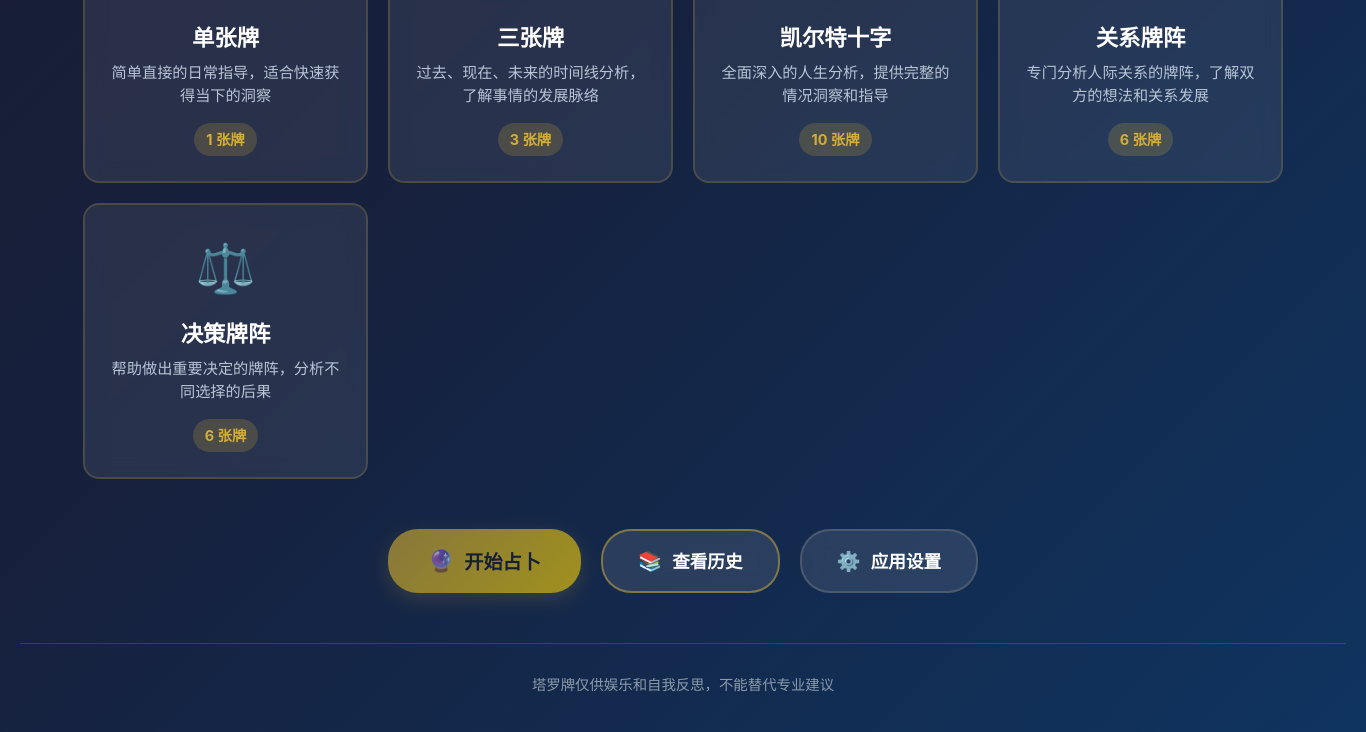
Test case: 塔罗分析应用 - 集成测试 › 设置功能 › 应该能够访问设置页面
This screenshot has width=1366, height=732.
(page scrolled)
Click the button "⚙️ 应用设置" at (889, 561), box x1=800 y1=529 x2=978 y2=593
(page scrolled)
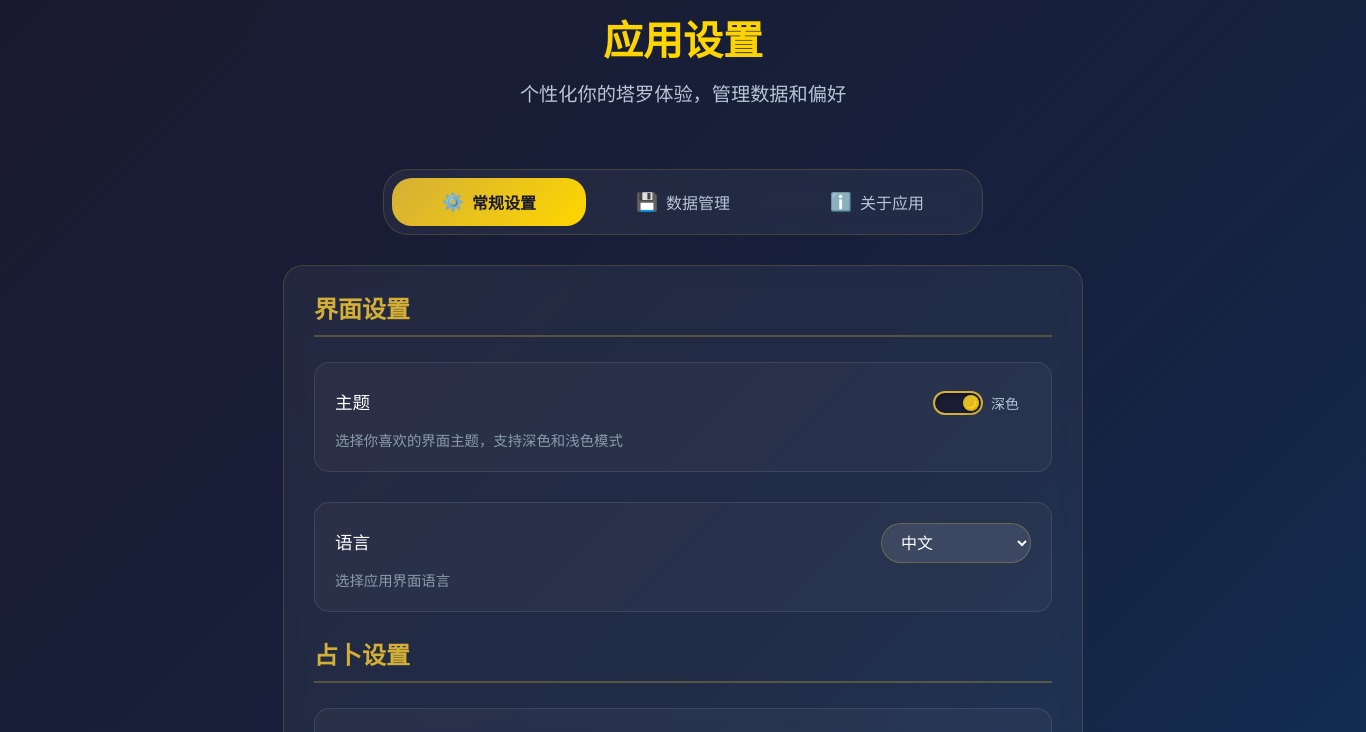
Expected: the heading "应用设置" is shown, x1=40 y1=17 x2=1326 y2=65
Expected: the text "个性化你的塔罗体验，管理数据和偏好" is shown, x1=520 y1=82 x2=846 y2=106
